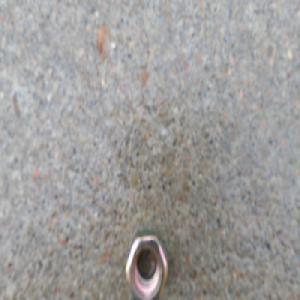Nut: (124, 229, 171, 299)
